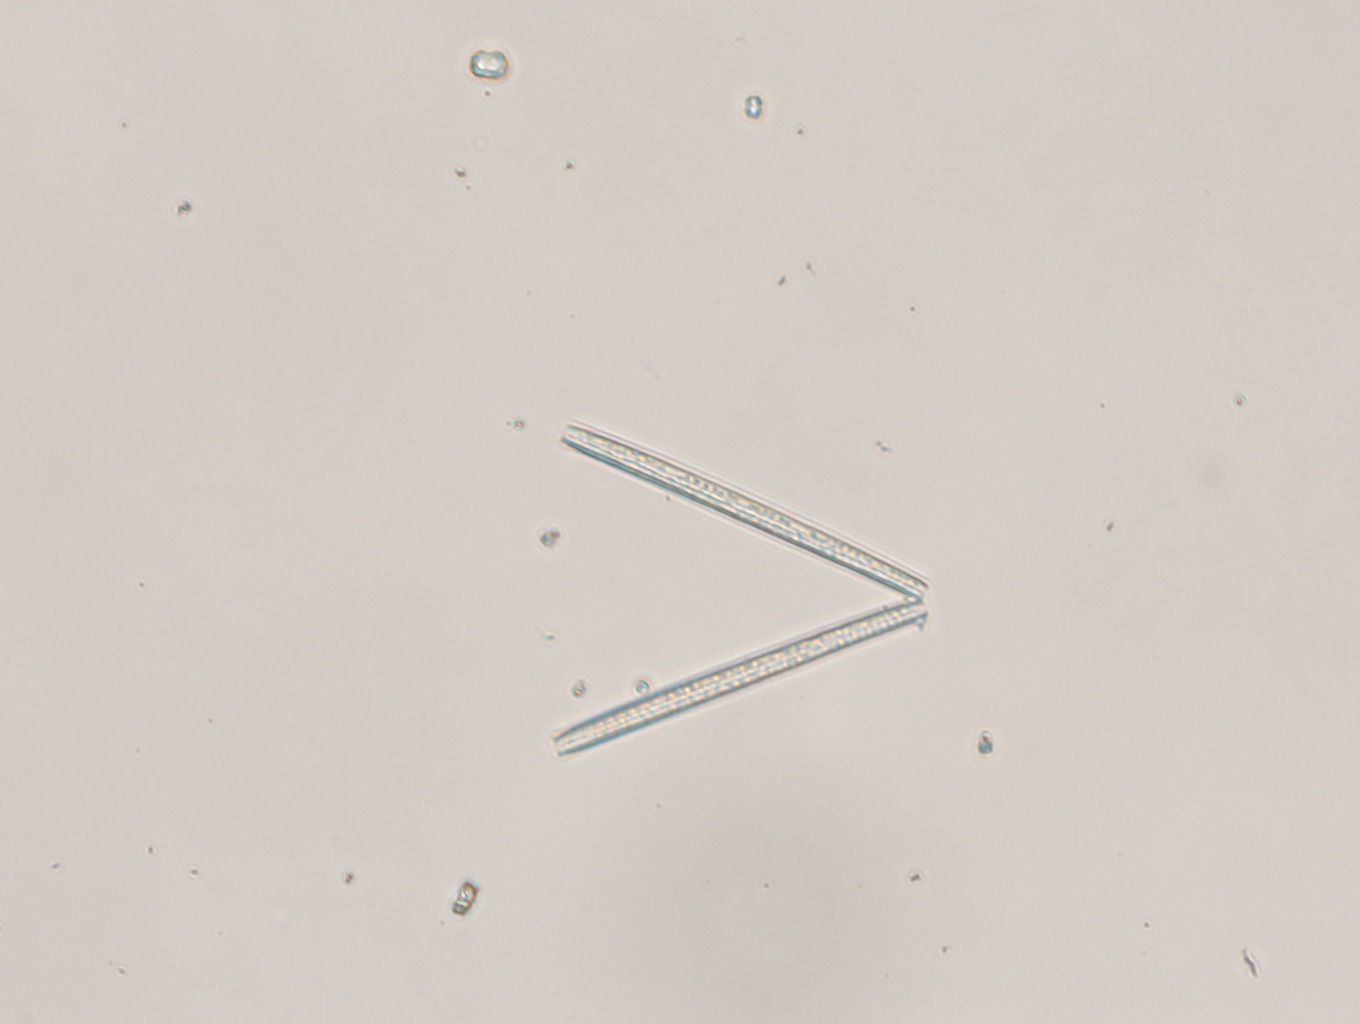thalassionema frauenfeldii: (543, 401, 940, 765)
